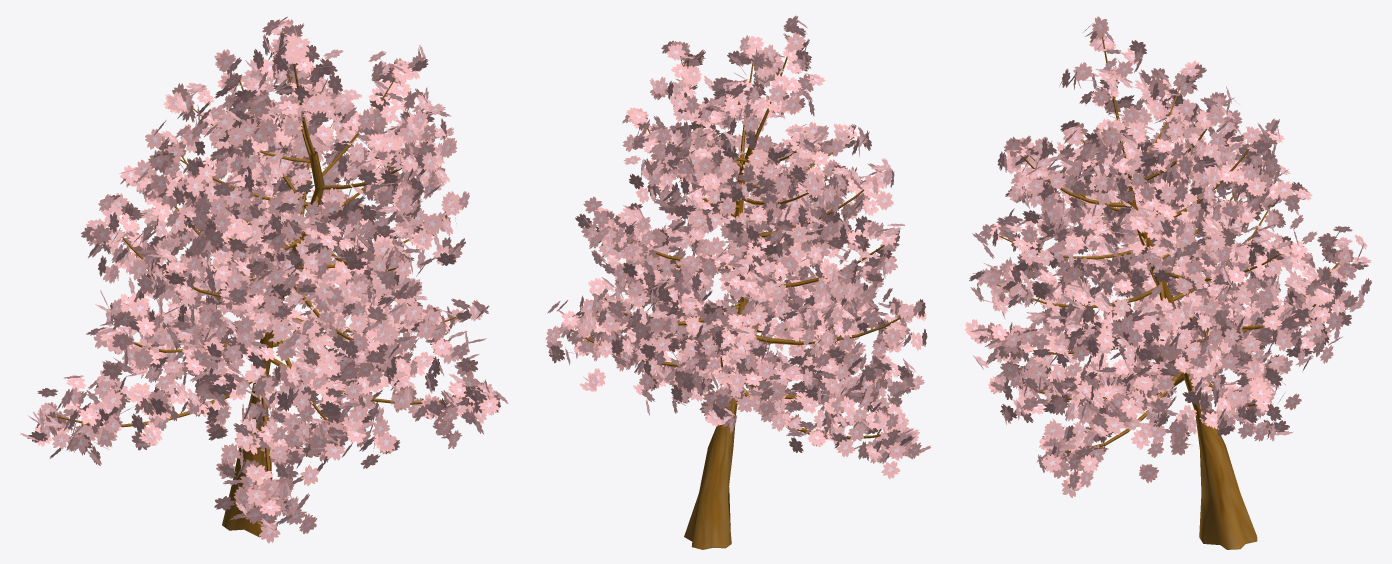
The model's file is SakuraLight.FBX.
The picture shows the model from 3 angles, left to right: view 1: azimuth 30°, elevation 25°; view 2: azimuth 150°, elevation 25°; view 3: azimuth 270°, elevation 25°; orthographic projection. The views are drawn at different scales.
Parts seen in each view (by area): view 1: Foliage001; view 2: Foliage001; view 3: Foliage001.
Part boxes in pixels (x1=…): Foliage001: x1=20, y1=16, x2=508, y2=543; Foliage001: x1=545, y1=15, x2=930, y2=549; Foliage001: x1=964, y1=16, x2=1371, y2=549.
Size of the model in its own units: 1239 by 1111 by 1523.
2 materials, 2 textured.
